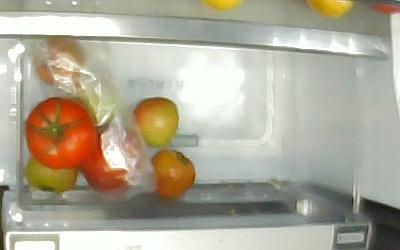tomato: (25, 97, 97, 170), (132, 96, 178, 147), (151, 148, 196, 198), (25, 155, 78, 194)
tomato_vinyl: (79, 128, 144, 191), (34, 39, 85, 86)
